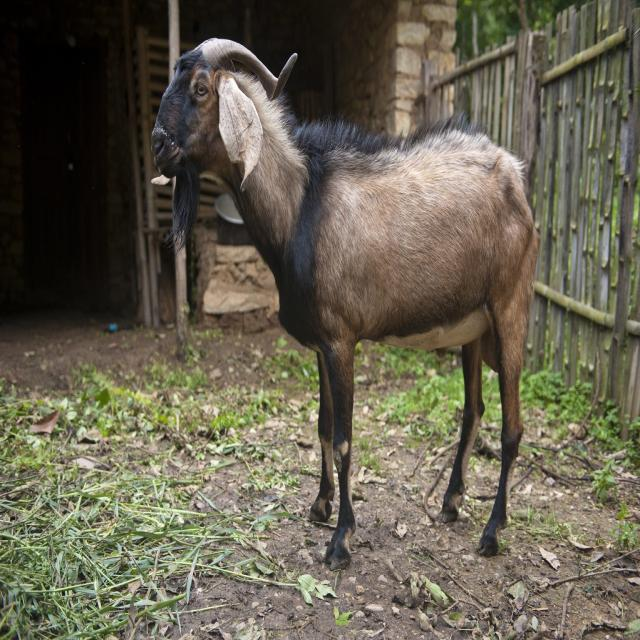Goat: (149, 29, 539, 569)
